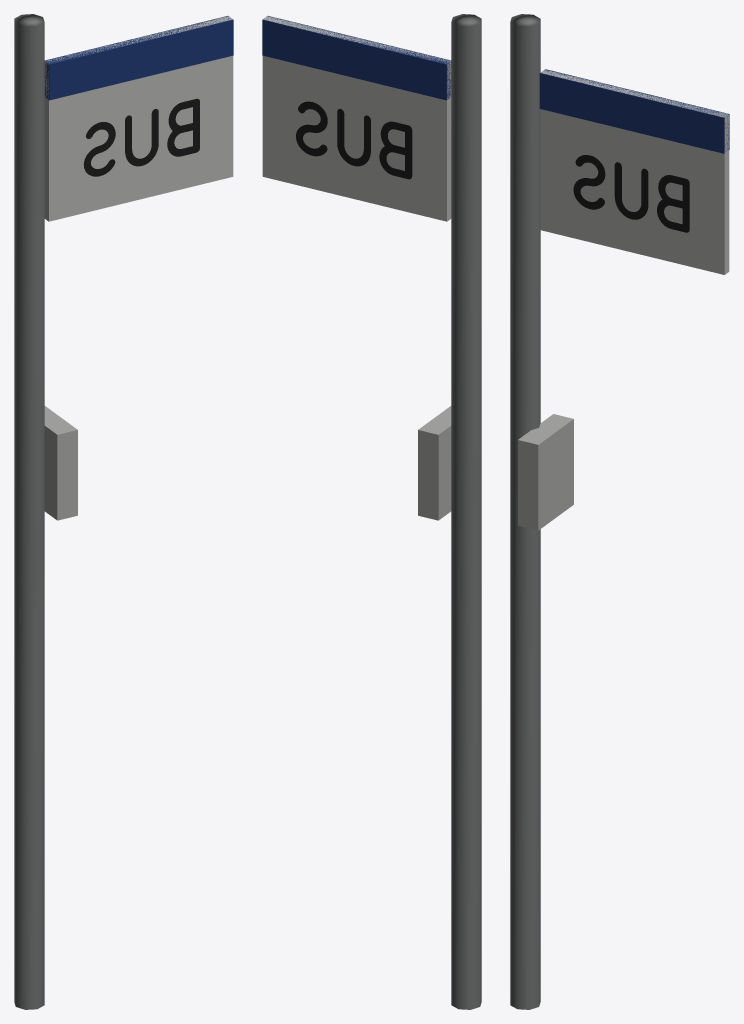
The model's file is SM_Prop_bus_stop_0.glb.
The picture shows the model from 3 angles, left to right: view 1: azimuth 30°, elevation 25°; view 2: azimuth 150°, elevation 25°; view 3: azimuth 330°, elevation 25°; orthographic projection.
Visible parts, largest first — view 1: SM_Prop_bus_stop_0; view 2: SM_Prop_bus_stop_0; view 3: SM_Prop_bus_stop_0.
Boxes of the visible parts, x1=… form: SM_Prop_bus_stop_0: x1=14, y1=14, x2=233, y2=1009; SM_Prop_bus_stop_0: x1=262, y1=14, x2=481, y2=1009; SM_Prop_bus_stop_0: x1=510, y1=14, x2=729, y2=1009.
Bounding box in the file's own units: 0.63 × 2.75 × 0.18.
